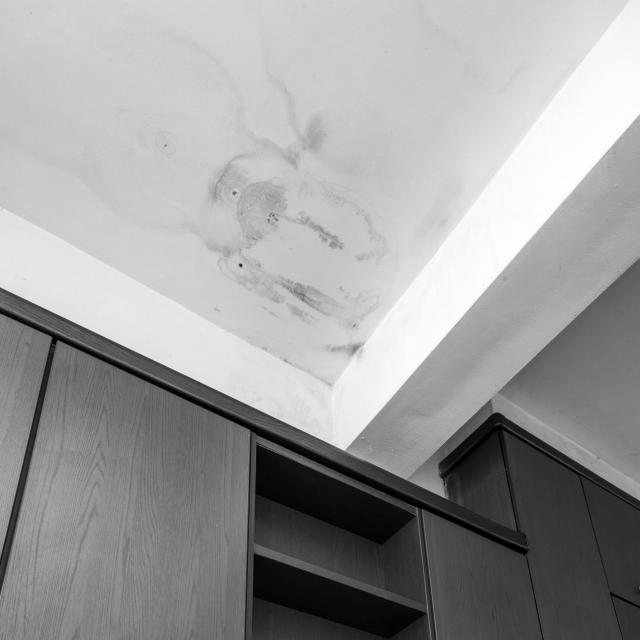pin holes: (158, 136, 180, 162), (263, 206, 283, 232), (234, 254, 249, 280), (225, 185, 239, 204)
stain marks: (24, 12, 456, 382), (265, 266, 361, 324), (236, 176, 287, 242), (212, 147, 250, 203), (298, 212, 343, 252), (288, 115, 314, 168), (332, 341, 367, 359), (212, 306, 222, 316)
